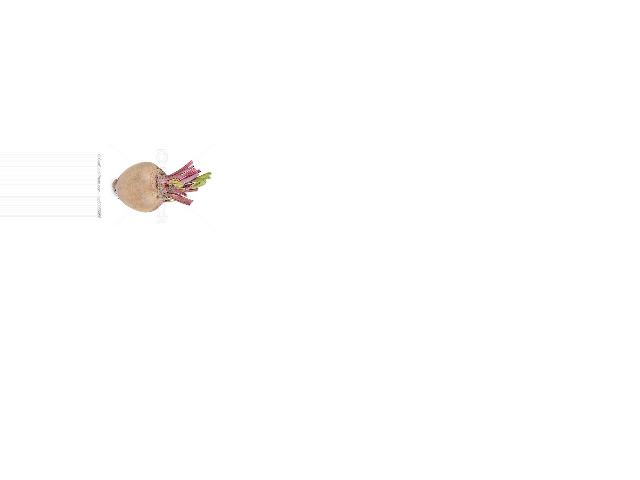beet: (113, 160, 211, 213)
